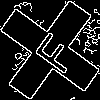F: (25, 25, 80, 77)
